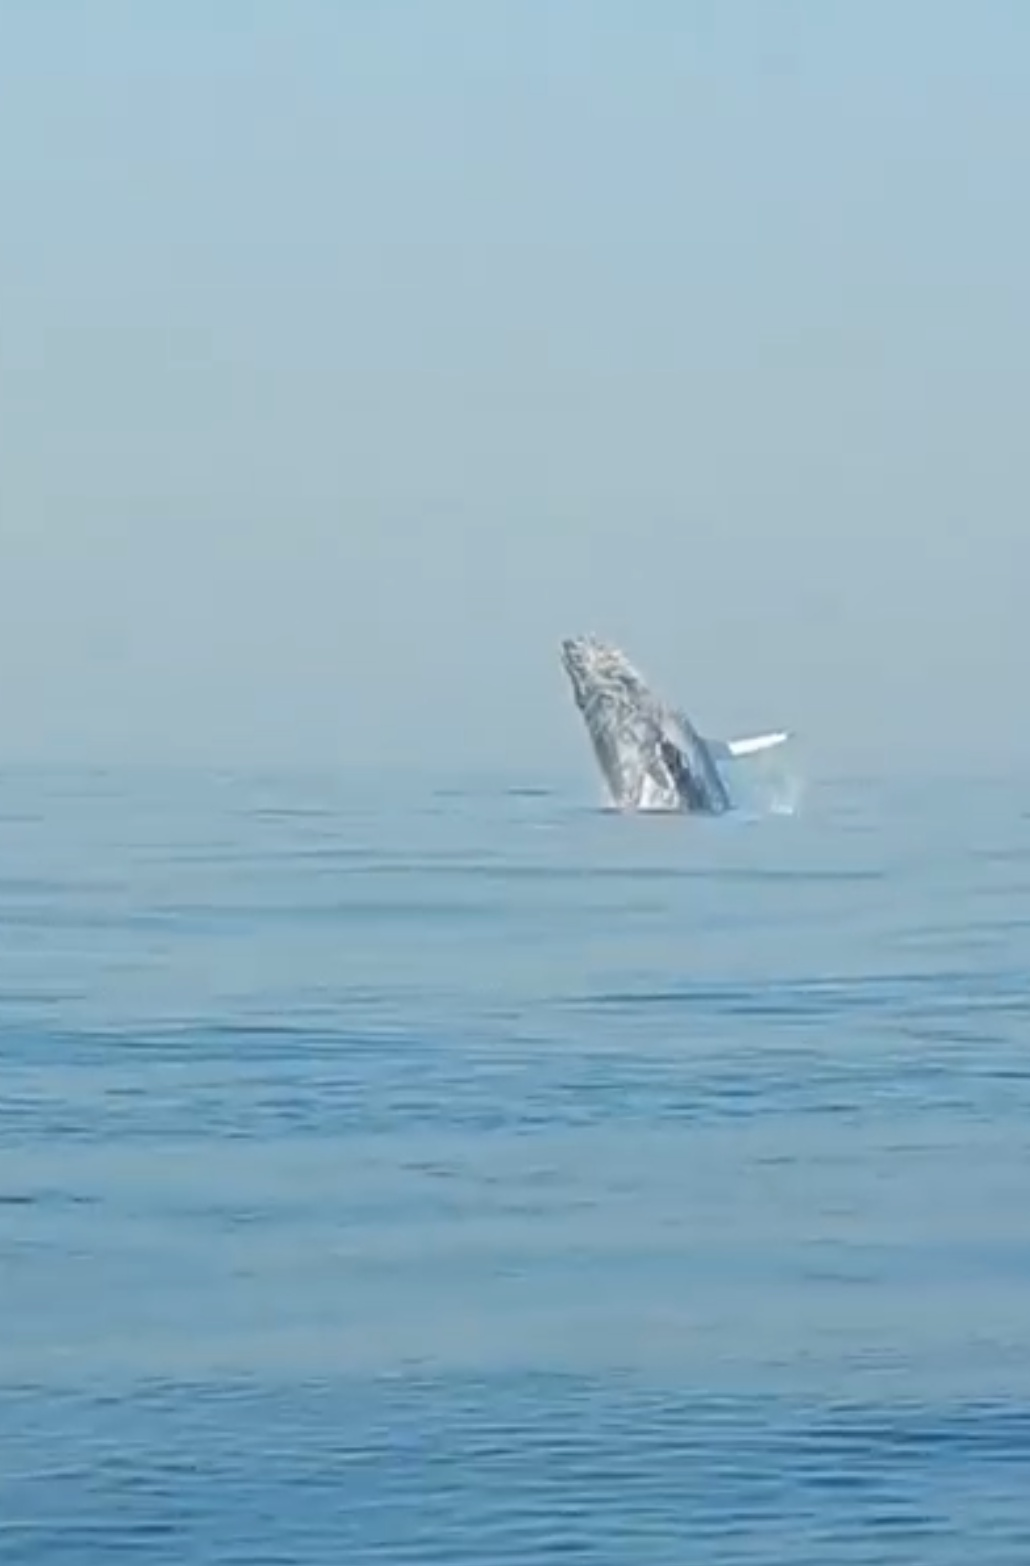humpback: (553, 628, 736, 816)
